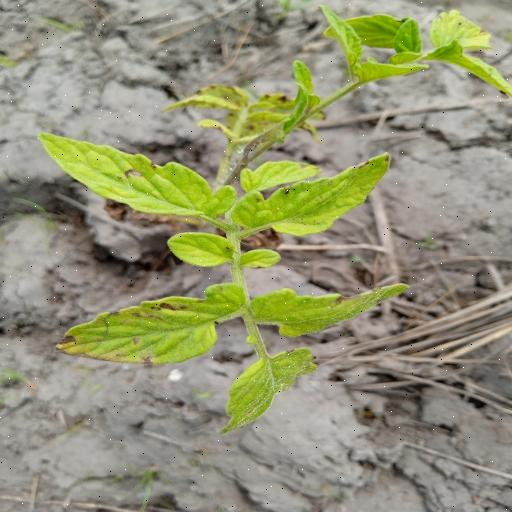Tomato_Brown_Spots: (33, 132, 227, 224), (52, 279, 256, 364), (242, 148, 399, 241), (254, 281, 410, 340)
